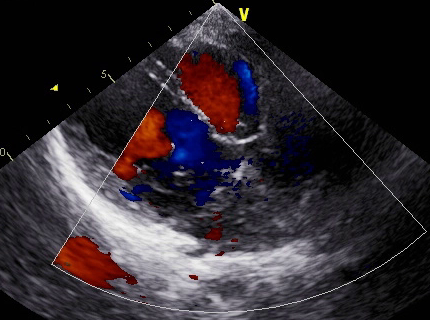AR: (147, 118, 196, 174)
